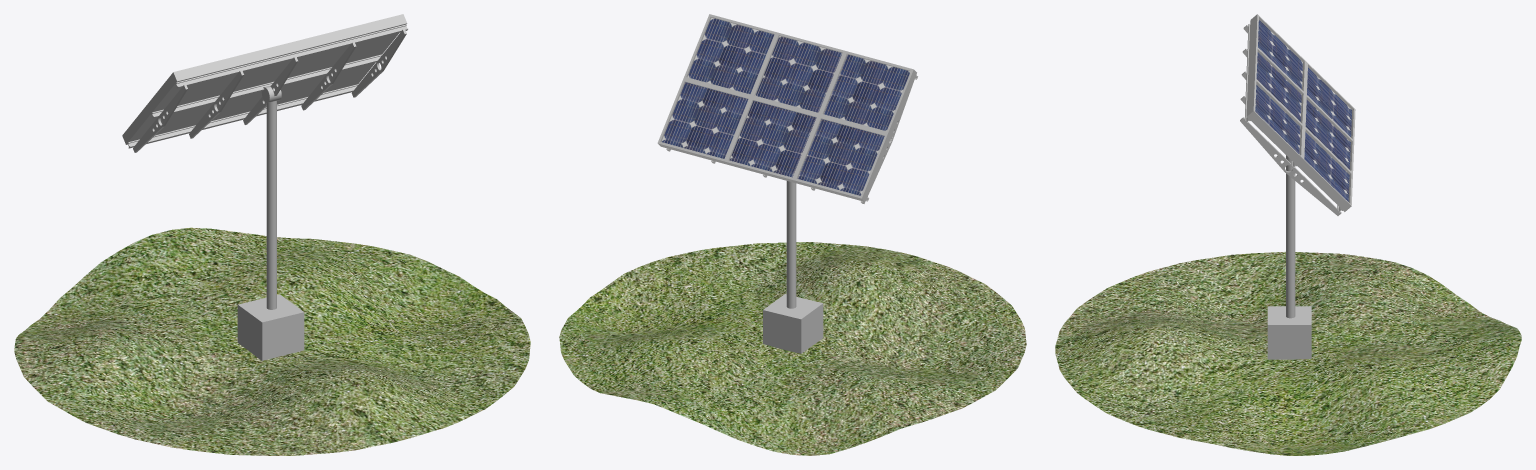
File: solarpanel.glb
The picture shows the model from 3 angles, left to right: view 1: azimuth 30°, elevation 25°; view 2: azimuth 150°, elevation 25°; view 3: azimuth 270°, elevation 25°; orthographic projection. The views are drawn at different scales.
Visible parts, largest first — view 1: Circle001, solpanel, Box002, Cylinder002; view 2: Circle001, solpanel, Box002, Cylinder002; view 3: Circle001, solpanel, Box002, Cylinder002.
Boxes of the visible parts, left/top/right/bottom form: Circle001: left=14, top=227, right=530, bottom=455; solpanel: left=122, top=14, right=408, bottom=152; Box002: left=237, top=294, right=304, bottom=360; Cylinder002: left=266, top=101, right=276, bottom=309; Circle001: left=559, top=242, right=1026, bottom=455; solpanel: left=657, top=14, right=917, bottom=203; Box002: left=763, top=294, right=823, bottom=353; Cylinder002: left=786, top=181, right=796, bottom=308; Circle001: left=1055, top=251, right=1521, bottom=455; solpanel: left=1240, top=14, right=1355, bottom=215; Box002: left=1267, top=306, right=1311, bottom=359; Cylinder002: left=1286, top=155, right=1295, bottom=318.
Bounding box in the file's own units: 984 × 709 × 980.
3 materials, 2 textured.
